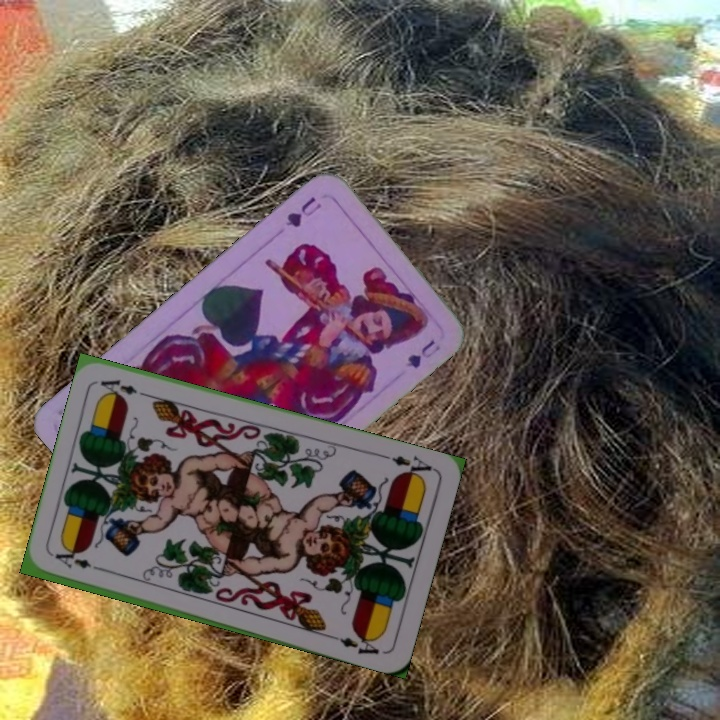EA: (378, 450, 436, 482), (51, 549, 108, 575)
GU: (281, 192, 324, 230)
